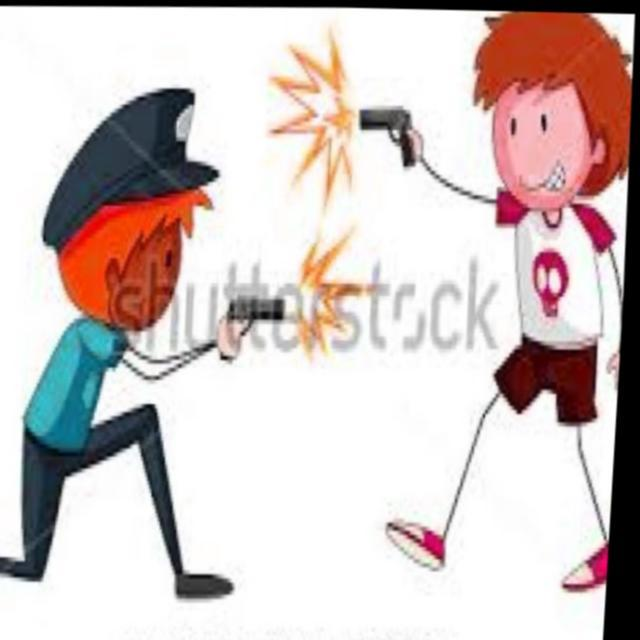weapon: (217, 294, 298, 373), (352, 99, 422, 176)
